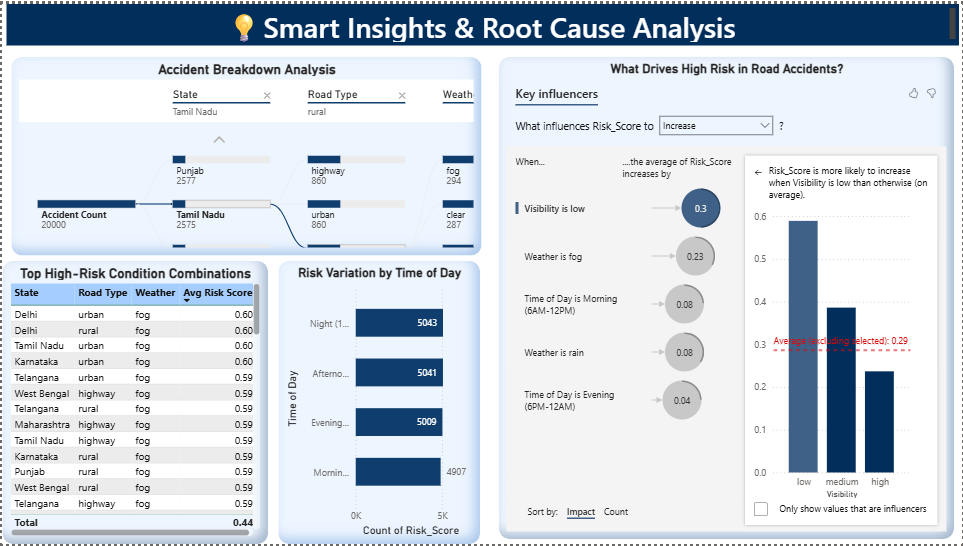

The page's visual inventory and layout, read from the dashboard file:
{"tool":"powerbi","page":{"name":"Smart Insights","canvas":[1280,720],"ordinal":8},"visuals":[{"type":"textbox","box":[5,0,1270,55],"z":0},{"type":"decompositionTreeVisual","title":"Accident Breakdown Analysis","fields":{"Analyze":["Accident_Data.Accident Count"],"ExplainBy":["Accident_Data.State","Accident_Data.Road Type","Accident_Data.Weather","Accident_Data.Time of Day"]},"box":[12,70,628,266],"z":1000},{"type":"keyDriversVisual","title":"What Drives High Risk in Road Accidents?","fields":{"ExplainBy":["Accident_Data.Road Type","Accident_Data.Weather","Accident_Data.Time of Day","Accident_Data.Visibility"],"Target":["Accident_Data.Risk_Score"]},"box":[662,70,608,644],"z":2000},{"type":"tableEx","title":"Top High-Risk Condition Combinations","fields":{"Values":["Accident_Data.State","Accident_Data.Road Type","Accident_Data.Weather","Accident_Data.Avg Risk Score"]},"box":[0,341.7,355,378.3],"z":3000},{"type":"barChart","title":"Risk Variation by Time of Day","fields":{"Category":["Accident_Data.Time of Day"],"Y":["CountNonNull(Accident_Data.Risk_Score)"]},"box":[368.3,341.7,270,378.3],"z":4000}]}

Visuals, with their boxes in screenshot pixels (x1, y1, x2, y2), scaled from the page's 1280x720 canvas onto the 963x546 screenshot:
textbox: l=4, t=0, r=959, b=42
"Accident Breakdown Analysis" decompositionTreeVisual: l=9, t=53, r=482, b=255
"What Drives High Risk in Road Accidents?" keyDriversVisual: l=498, t=53, r=955, b=541
"Top High-Risk Condition Combinations" tableEx: l=0, t=259, r=267, b=545
"Risk Variation by Time of Day" barChart: l=277, t=259, r=480, b=545
